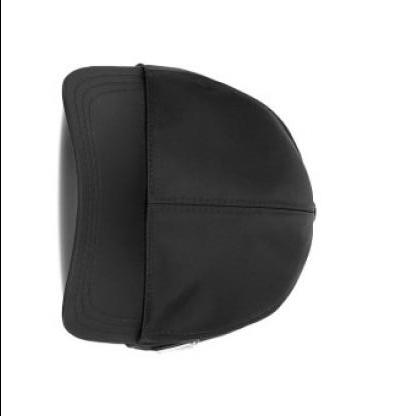cap: (52, 45, 326, 367)
